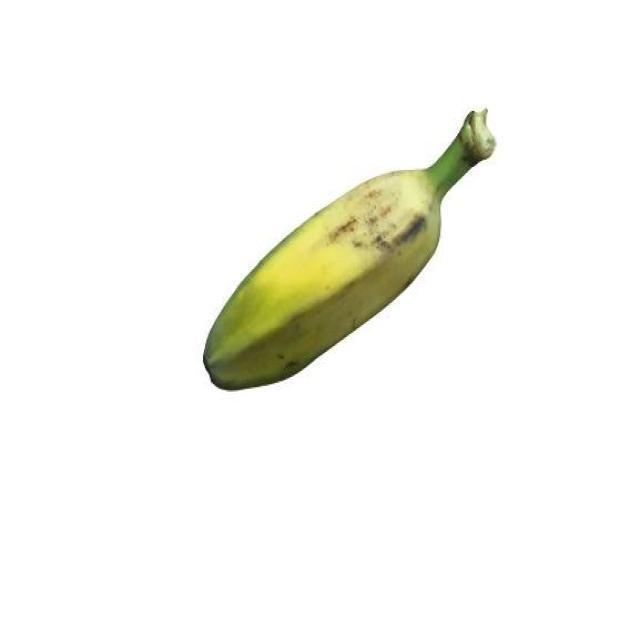Banana: (196, 159, 469, 397)
